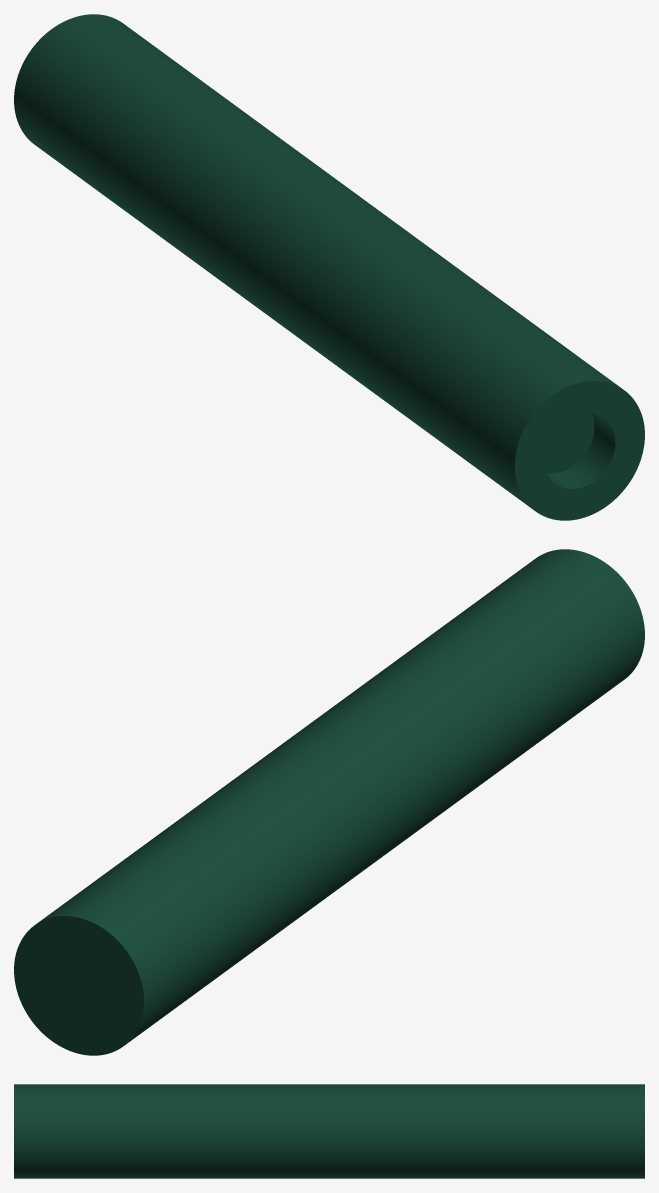
The picture shows the model from 3 angles, top to bottom: view 1: azimuth 30°, elevation 25°; view 2: azimuth 150°, elevation 25°; view 3: azimuth 270°, elevation 25°; orthographic projection. The views are drawn at different scales.
Parts seen in each view (by area): view 1: L03_PineGreen; view 2: L03_PineGreen; view 3: L03_PineGreen.
Part boxes in pixels (x1=…): L03_PineGreen: x1=14, y1=14, x2=644, y2=520; L03_PineGreen: x1=14, y1=549, x2=644, y2=1055; L03_PineGreen: x1=14, y1=1084, x2=644, y2=1178.
Bounding box in the file's own units: 15 × 15 × 100.
